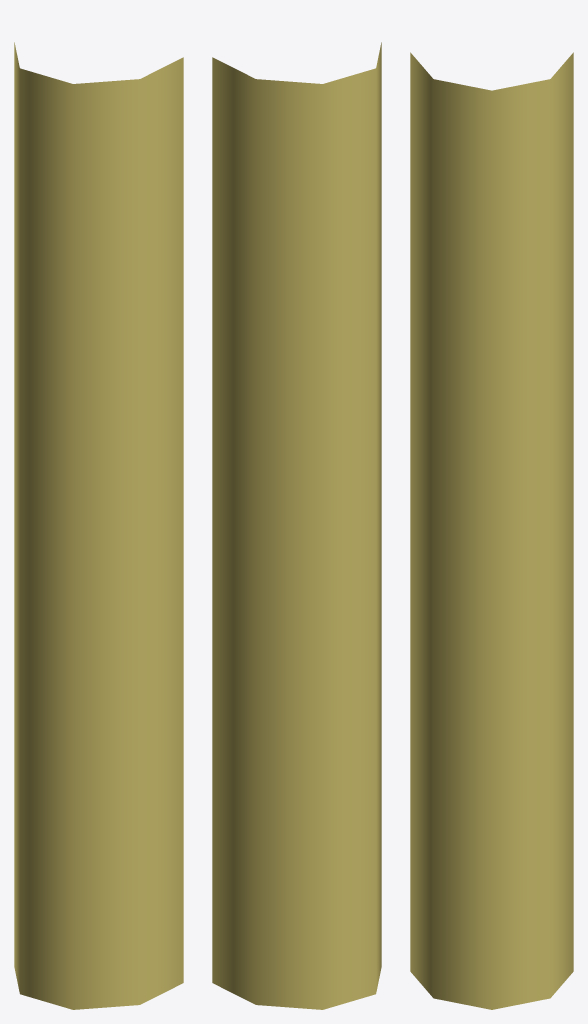
Rendered from nucleus-proprius.glb.
3 renders of one model, left to right at view 1: azimuth 30°, elevation 25°; view 2: azimuth 150°, elevation 25°; view 3: azimuth 270°, elevation 25°, orthographic.
Visible parts, largest first — view 1: Nucleus proprius; view 2: Nucleus proprius; view 3: Nucleus proprius.
Boxes of the visible parts, x1=… form: Nucleus proprius: x1=14, y1=42, x2=183, y2=1009; Nucleus proprius: x1=212, y1=42, x2=381, y2=1009; Nucleus proprius: x1=410, y1=52, x2=573, y2=1009.
Bounding box in the file's own units: 0.000894 × 0.005 × 0.000804.
